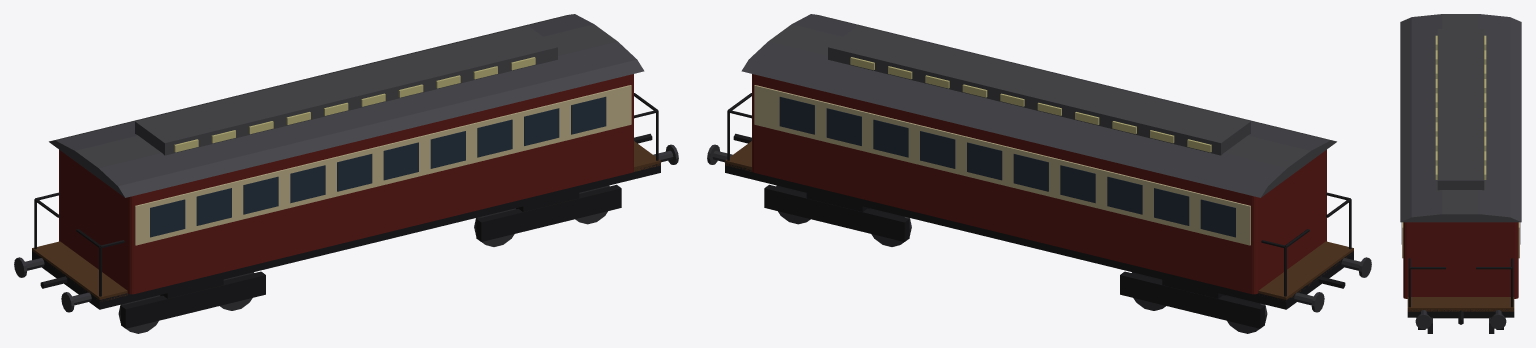
File: steam_coach.obj
3 renders of one model, left to right at view 1: azimuth 30°, elevation 25°; view 2: azimuth 150°, elevation 25°; view 3: azimuth 270°, elevation 25°, orthographic. The views are drawn at different scales.
Bounding box in the file's own units: 13 × 3.64 × 2.85.
